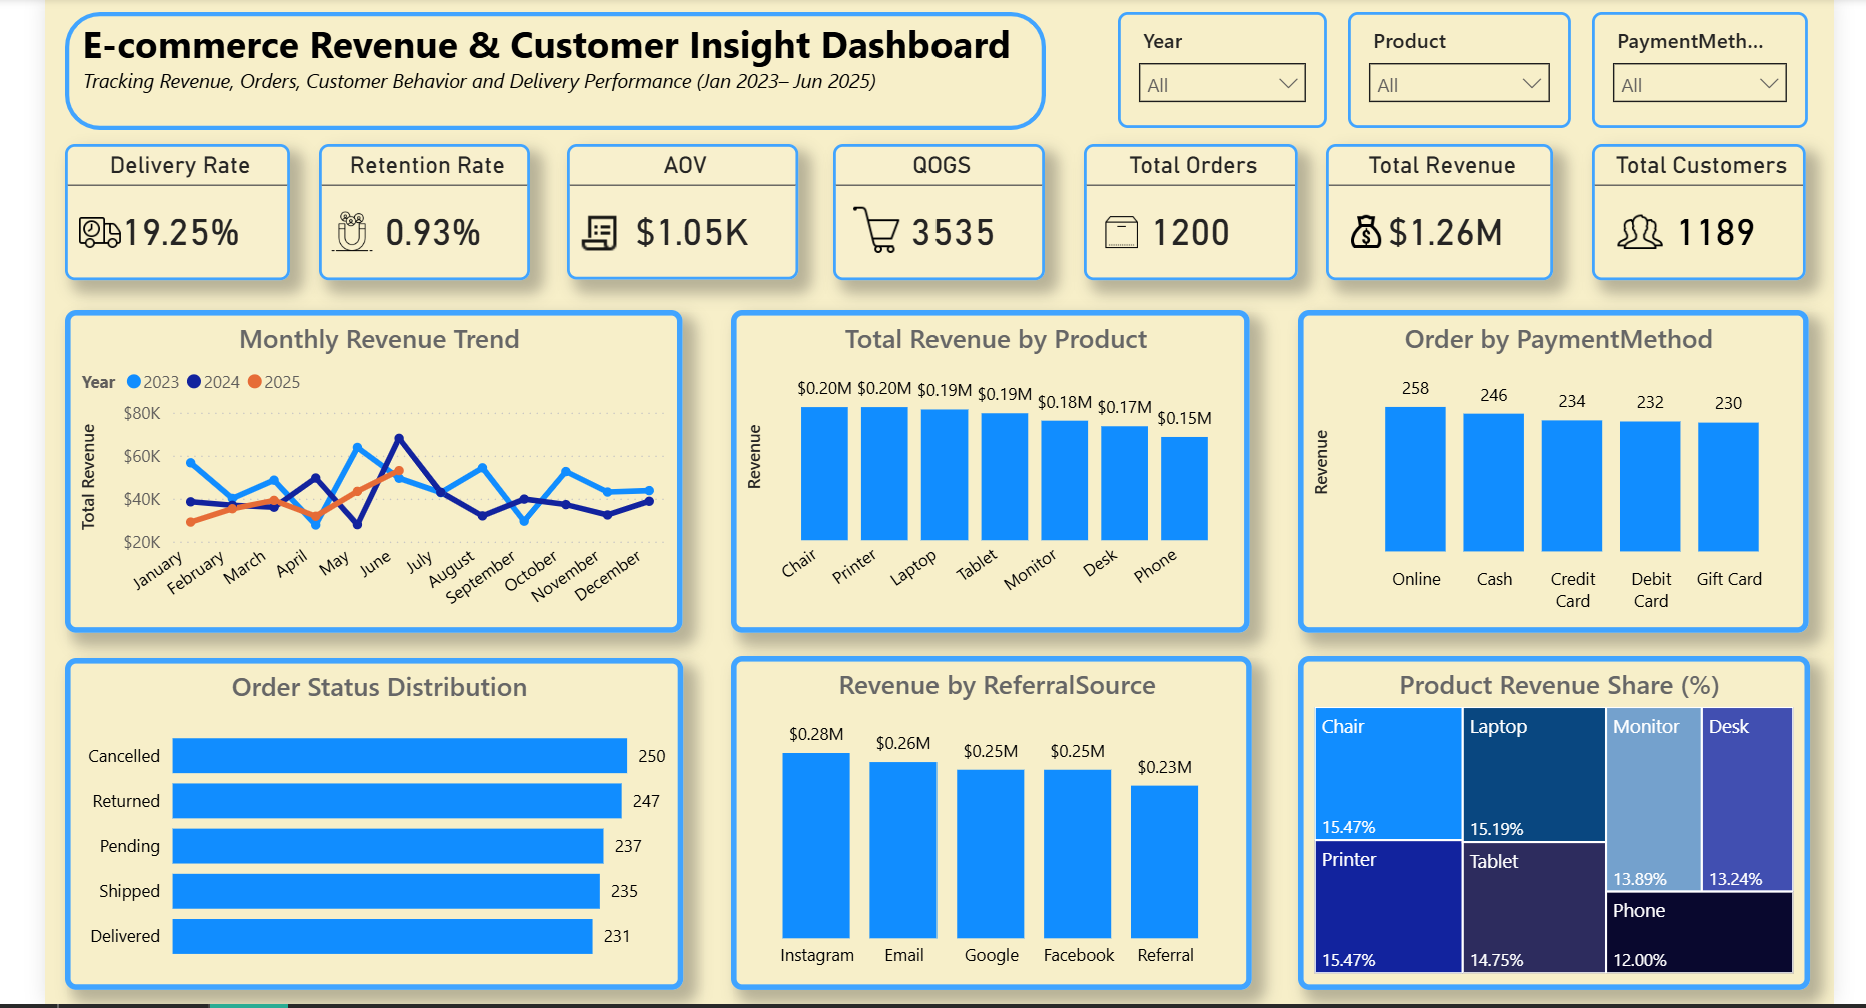

Layout of this report page (visuals, bound fields, positions):
{"tool":"powerbi","page":{"name":"Page 1","canvas":[1280,720],"ordinal":0},"visuals":[{"type":"columnChart","fields":{"Category":["Sheet1.Product"],"Y":["Sheet1.Total Revenue"]},"box":[490.8,222.7,370.6,230.8],"z":0},{"type":"columnChart","title":"Order by PaymentMethod","fields":{"Category":["Sheet1.PaymentMethod"],"Y":["CountNonNull(Sheet1.OrderID)"]},"box":[895.5,222.7,365.7,230.8],"z":1000},{"type":"columnChart","title":" Revenue by ReferralSource","fields":{"Category":["Sheet1.ReferralSource"],"Y":["Sheet1.Total Revenue"]},"box":[491,470.9,372.2,239],"z":2000},{"type":"lineChart","title":"Monthly Revenue Trend","fields":{"Category":["Sheet1.Date.Variation.Date Hierarchy.Month"],"Y":["Sheet1.Total Revenue"],"Series":["Sheet1.Date.Variation.Date Hierarchy.Year"]},"box":[14.6,222.7,442.1,230.8],"z":3000},{"type":"clusteredBarChart","title":" Order Status Distribution","fields":{"Y":["Sheet1.Total Orders"],"Category":["Sheet1.OrderStatus"]},"box":[14.3,472.4,442.3,237.6],"z":4000},{"type":"textbox","box":[14.6,8.1,707,76.4],"z":5000},{"type":"slicer","title":"YEAR","fields":{"Values":["Sheet1.Date.Variation.Date Hierarchy.Year"]},"box":[767.1,9.8,149.5,82.9],"z":6000},{"type":"slicer","fields":{"Values":["Sheet1.Product"]},"box":[931.3,9.8,159.3,82.9],"z":7000},{"type":"slicer","fields":{"Values":["Sheet1.PaymentMethod"]},"box":[1106.8,9.8,154.4,82.9],"z":8000},{"type":"cardVisual","title":"Retention Rate","fields":{"Data":["Sheet1.Retention Rate"]},"box":[196.7,104,151.2,97.5],"z":9000},{"type":"cardVisual","title":"AOV","fields":{"Data":["Sheet1.AOV"]},"box":[373.1,104.6,165.3,97.1],"z":10000},{"type":"cardVisual","title":"QOGS","fields":{"Data":["Sheet1.QOGS"]},"box":[564,104,151.2,97.5],"z":11000},{"type":"cardVisual","title":"Total Orders","fields":{"Data":["Sheet1.Total Orders"]},"box":[742.8,104,152.8,97.5],"z":12000},{"type":"cardVisual","title":"Total Revenue","fields":{"Data":["Sheet1.Total Revenue"]},"box":[916.7,104,162.5,97.5],"z":13000},{"type":"cardVisual","title":"Total Customers","fields":{"Data":["Sheet1.Total Customers"]},"box":[1106.8,104,152.8,97.5],"z":14000},{"type":"treemap","title":"Product Revenue Share (%)","fields":{"Values":["Sheet1.Total Revenue"],"Group":["Sheet1.Product"]},"box":[896.1,470.9,366.4,239],"z":15000},{"type":"cardVisual","title":"Delivery Rate","fields":{"Data":["Sheet1.Delivery rate"]},"box":[14.6,104,160.9,97.5],"z":16000},{"type":"shape","box":[14.3,10,701.4,84.5],"z":17000},{"type":"image","box":[931.8,153.2,25.8,30.1],"z":19001},{"type":"image","box":[24.3,147.4,30.1,38.6],"z":19002},{"type":"image","box":[1123.1,151.2,34.1,32.5],"z":19003},{"type":"image","box":[754.1,149.5,30.9,37.4],"z":19004},{"type":"image","box":[578.3,146,34.4,38.6],"z":19005},{"type":"image","box":[203.3,115.9,32.9,101.6],"z":19006},{"type":"image","box":[373.6,150.3,45.8,35.8],"z":19007}]}

Visuals, with their boxes in screenshot pixels (x1, y1, x2, y2):
columnChart - Sheet1.Product x Sheet1.Total Revenue: pyautogui.locateOnScreen(730, 307, 1240, 625)
"Order by PaymentMethod" columnChart: pyautogui.locateOnScreen(1287, 307, 1791, 625)
" Revenue by ReferralSource" columnChart: pyautogui.locateOnScreen(730, 649, 1243, 978)
"Monthly Revenue Trend" lineChart: pyautogui.locateOnScreen(74, 307, 683, 625)
" Order Status Distribution" clusteredBarChart: pyautogui.locateOnScreen(73, 651, 683, 978)
textbox: pyautogui.locateOnScreen(74, 11, 1048, 116)
"YEAR" slicer: pyautogui.locateOnScreen(1110, 14, 1316, 128)
slicer - Sheet1.Product: pyautogui.locateOnScreen(1337, 14, 1556, 128)
slicer - Sheet1.PaymentMethod: pyautogui.locateOnScreen(1578, 14, 1791, 128)
"Retention Rate" cardVisual: pyautogui.locateOnScreen(324, 143, 533, 278)
"AOV" cardVisual: pyautogui.locateOnScreen(567, 144, 795, 278)
"QOGS" cardVisual: pyautogui.locateOnScreen(831, 143, 1039, 278)
"Total Orders" cardVisual: pyautogui.locateOnScreen(1077, 143, 1287, 278)
"Total Revenue" cardVisual: pyautogui.locateOnScreen(1316, 143, 1540, 278)
"Total Customers" cardVisual: pyautogui.locateOnScreen(1578, 143, 1789, 278)
"Product Revenue Share (%)" treemap: pyautogui.locateOnScreen(1288, 649, 1793, 978)
"Delivery Rate" cardVisual: pyautogui.locateOnScreen(74, 143, 295, 278)
shape: pyautogui.locateOnScreen(73, 14, 1040, 130)
image: pyautogui.locateOnScreen(1337, 211, 1373, 253)
image: pyautogui.locateOnScreen(87, 203, 128, 256)
image: pyautogui.locateOnScreen(1601, 208, 1648, 253)
image: pyautogui.locateOnScreen(1092, 206, 1135, 258)
image: pyautogui.locateOnScreen(850, 201, 898, 254)
image: pyautogui.locateOnScreen(334, 160, 379, 300)
image: pyautogui.locateOnScreen(568, 207, 631, 256)
